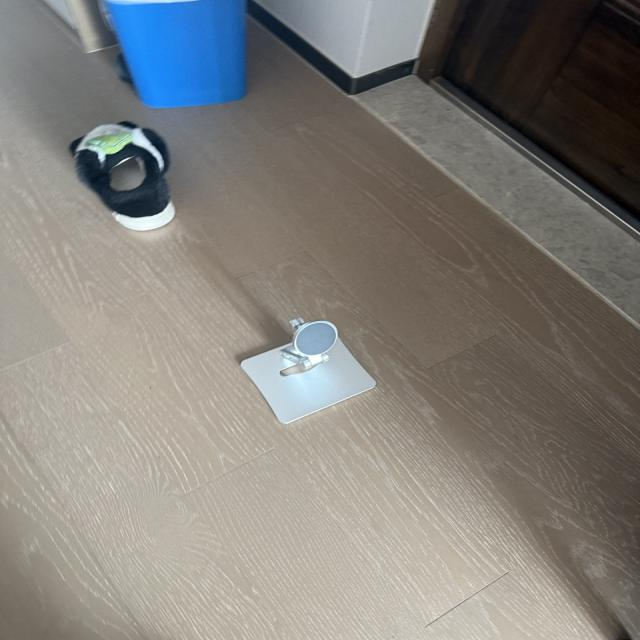phone holder: (232, 304, 384, 431)
